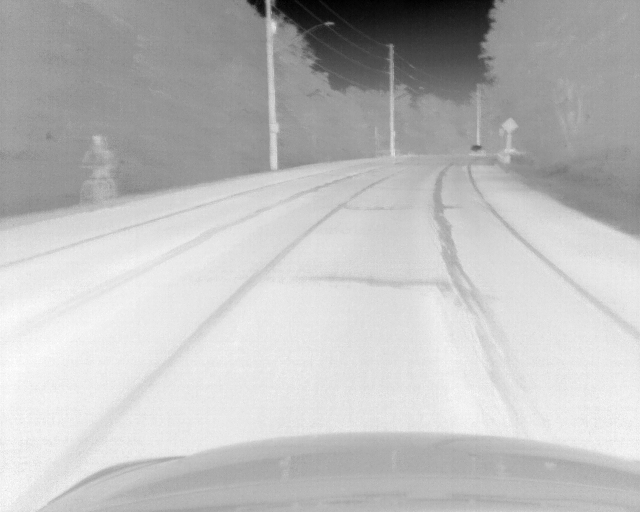bike: (78, 166, 119, 210)
car: (469, 144, 486, 161)
people: (83, 136, 118, 210)
